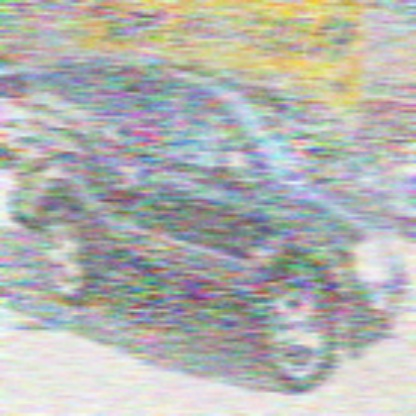Vehicle: (13, 55, 411, 397)
